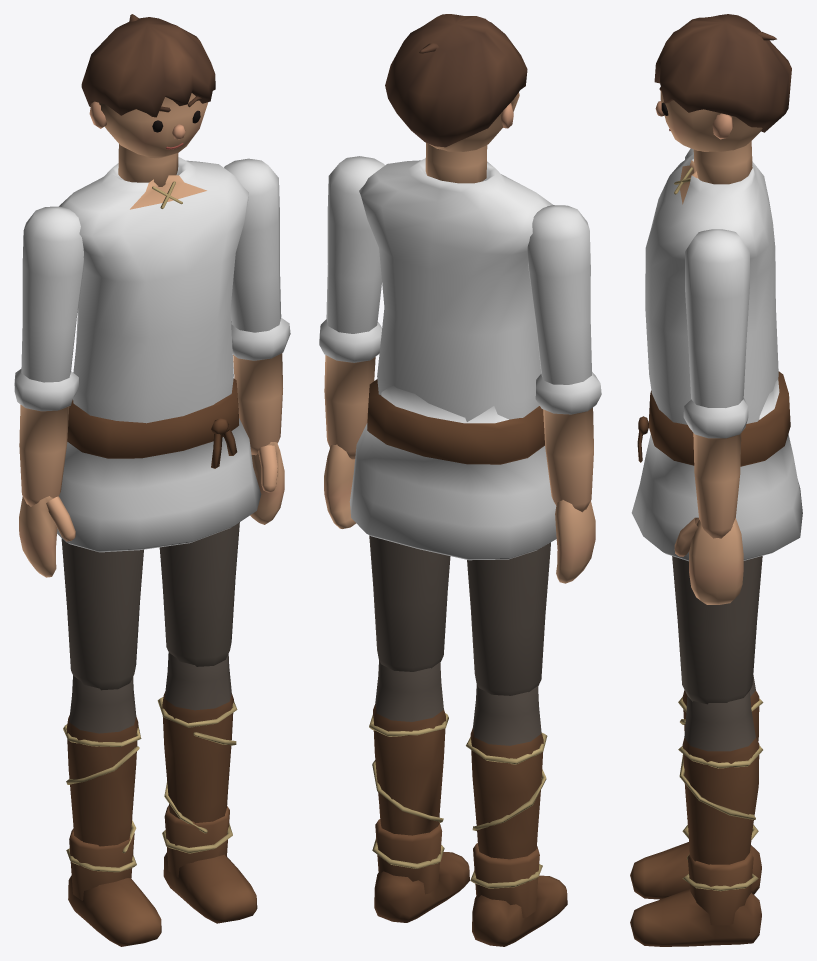
Rendered from body.glb.
The picture shows the model from 3 angles, left to right: view 1: azimuth 30°, elevation 25°; view 2: azimuth 150°, elevation 25°; view 3: azimuth 270°, elevation 25°; orthographic projection. The views are drawn at different scales.
Parts seen in each view (by area): view 1: Torso, Pelvis, Head, LowerLeg_L, LowerLeg_R, UpperLeg_R, UpperArm_R, UpperLeg_L, UpperArm_L, Foot_R, Foot_L, LowerArm_R (+3 smaller); view 2: Torso, Pelvis, Head, LowerLeg_L, LowerLeg_R, UpperLeg_R, UpperArm_R, UpperLeg_L, UpperArm_L, Foot_R, Foot_L, LowerArm_R (+3 smaller); view 3: Torso, Head, Pelvis, LowerLeg_L, UpperArm_L, UpperLeg_L, Foot_L, LowerArm_L, Hand_L, Foot_R, LowerLeg_R.
Boxes of the visible parts, box(x1,y1,x2,y2) form: Torso: box(59, 157, 248, 423); Pelvis: box(57, 378, 261, 552); Head: box(81, 14, 215, 186); LowerLeg_L: box(157, 652, 237, 833); LowerLeg_R: box(63, 675, 141, 853); UpperLeg_R: box(61, 538, 143, 690); UpperArm_R: box(21, 206, 83, 382); UpperLeg_L: box(159, 522, 239, 666); UpperArm_L: box(224, 158, 281, 332); Foot_R: box(66, 828, 161, 946); Foot_L: box(162, 805, 257, 923); LowerArm_R: box(14, 369, 78, 506); Torso: box(359, 158, 552, 421); Pelvis: box(349, 379, 556, 560); Head: box(385, 14, 527, 183); LowerLeg_L: box(369, 660, 448, 835); LowerLeg_R: box(466, 684, 547, 859); UpperLeg_R: box(467, 542, 550, 695); UpperArm_R: box(527, 205, 591, 384); UpperLeg_L: box(369, 535, 450, 671); UpperArm_L: box(326, 156, 384, 333); Foot_R: box(470, 843, 567, 946); Foot_L: box(372, 819, 469, 922); LowerArm_R: box(535, 372, 601, 512); Torso: box(645, 154, 778, 424); Head: box(654, 14, 791, 184); Pelvis: box(631, 371, 802, 561); LowerLeg_L: box(678, 691, 762, 864); UpperArm_L: box(685, 229, 749, 407); UpperLeg_L: box(672, 556, 762, 704); Foot_L: box(630, 852, 761, 946); LowerArm_L: box(683, 398, 748, 538); Hand_L: box(674, 517, 743, 604); Foot_R: box(630, 824, 761, 899); LowerLeg_R: box(678, 675, 763, 818).
Bounding box in the file's own units: 0.5617 × 1.76 × 0.3088.
